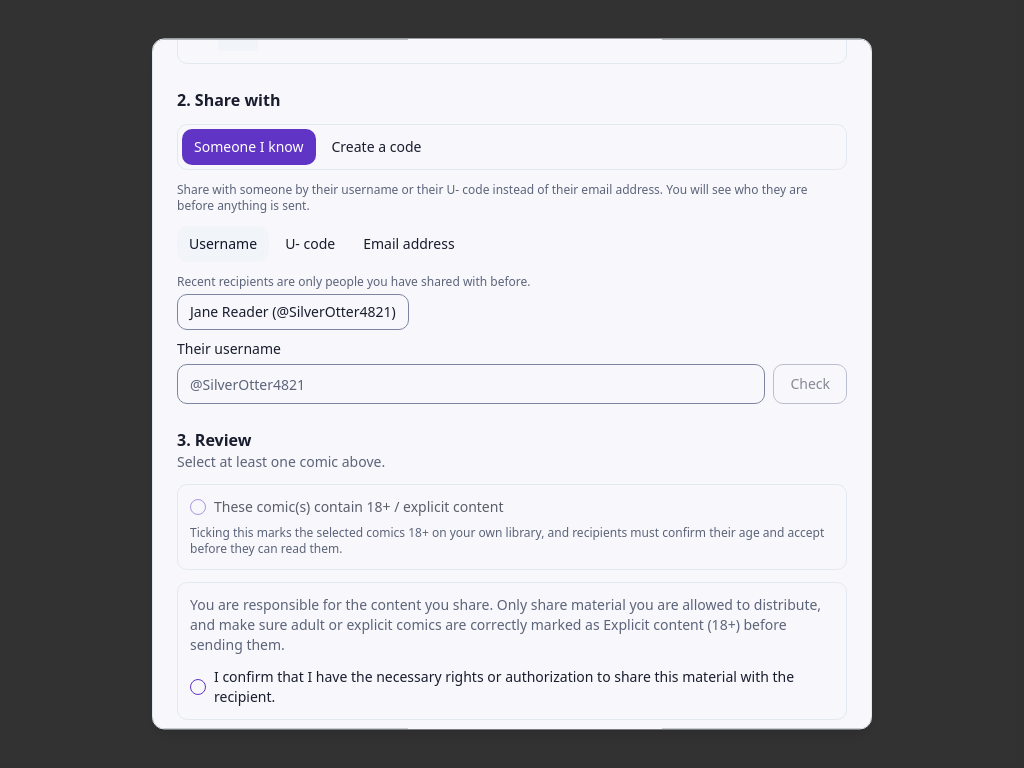
Test: ShareComicsDialog › forgets a checked recipient as soon as the handle is edited
(page scrolled)
Type "SilverOtter4821" into the field labelled "Their username".
click(471, 384); type("SilverOtter4821")  # box [177,364,765,404]
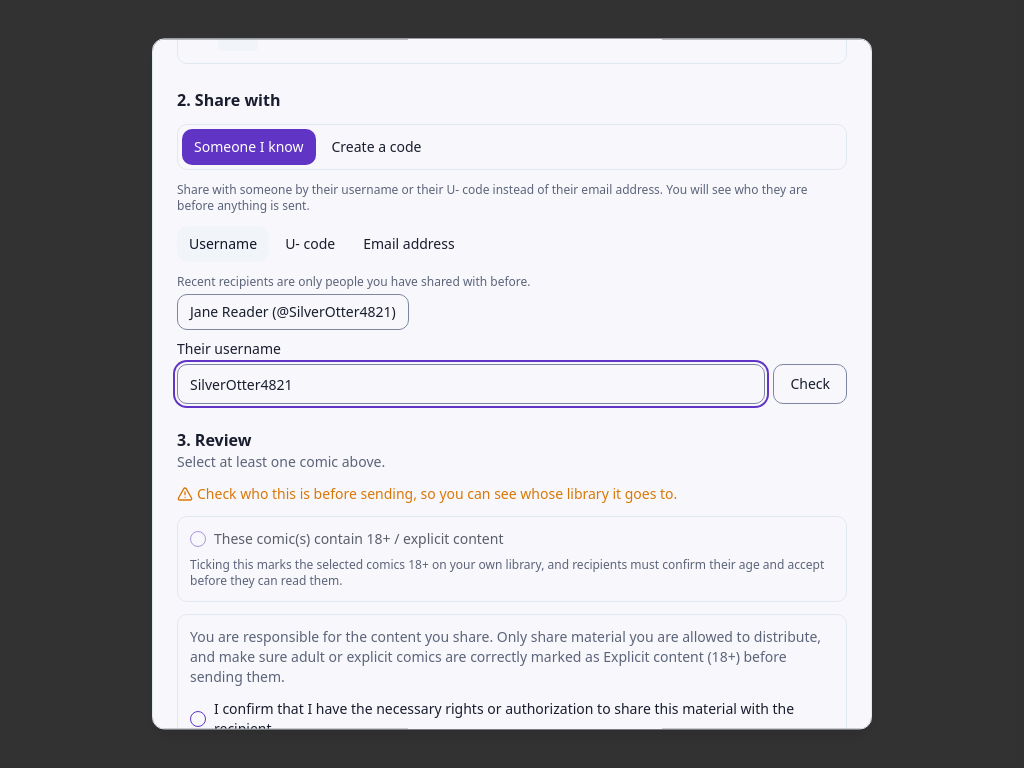
Click the button "Check".
click(810, 384)  # box [773,364,847,404]
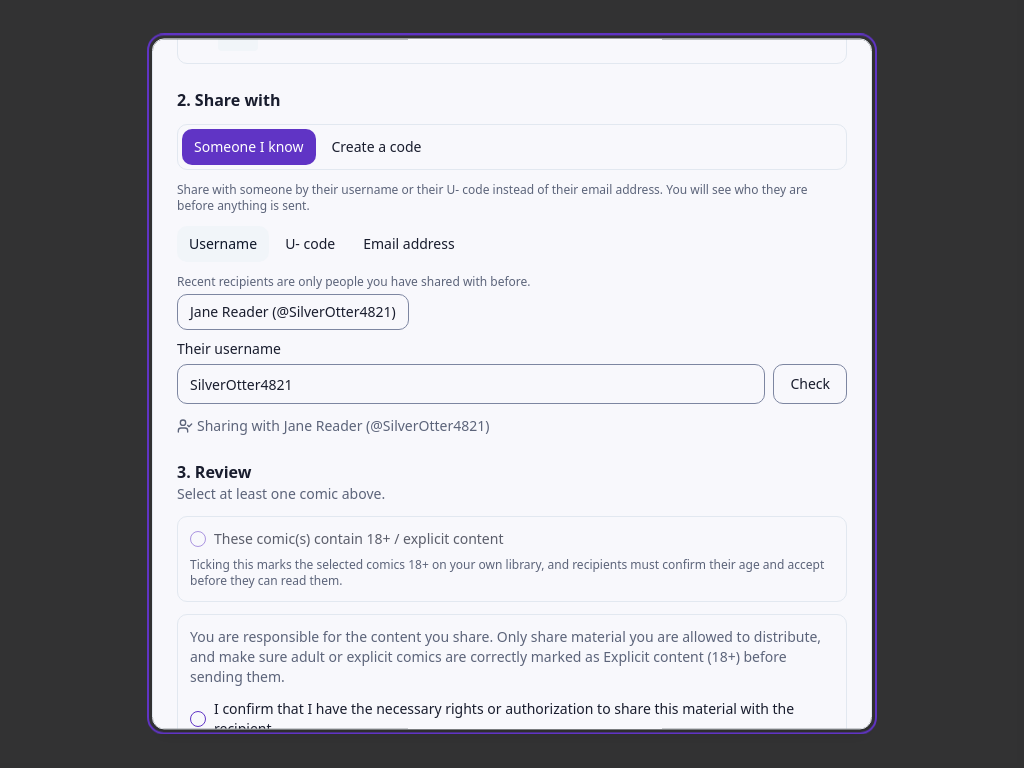
Result: the text "Sharing with Jane Reader (@SilverOtter4821)" is shown at [177,416,490,435]
Type "X" into the field labelled "Their username".
click(471, 384); type("X")  # box [177,364,765,404]
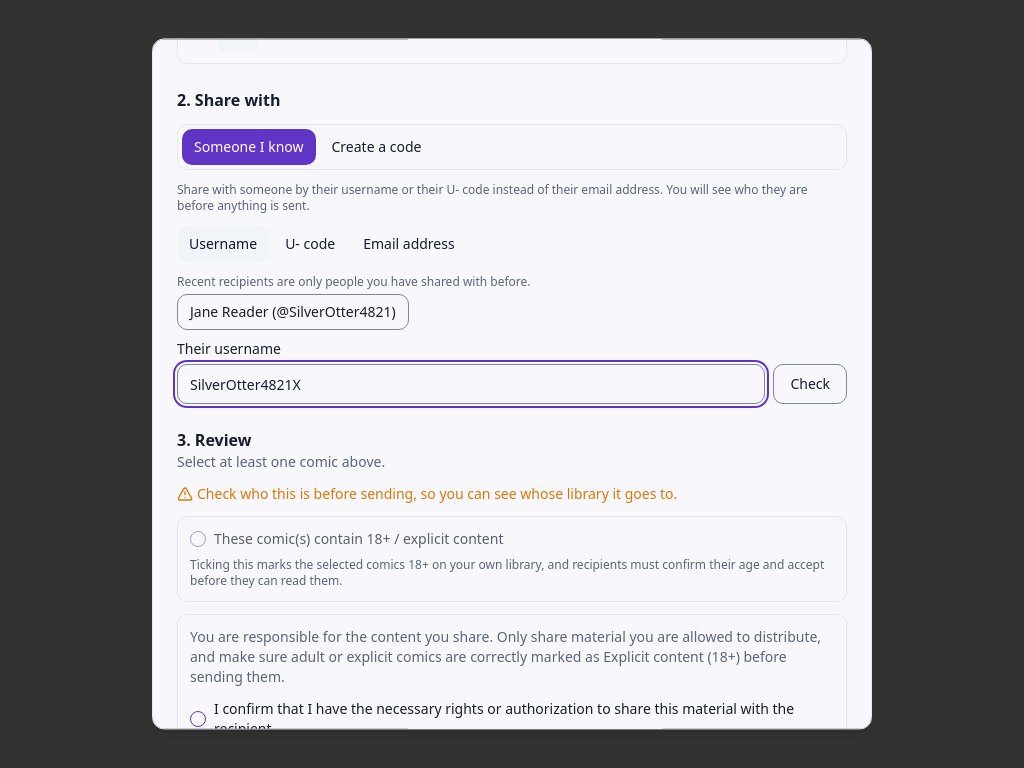
Result: the text "Sharing with" is gone
